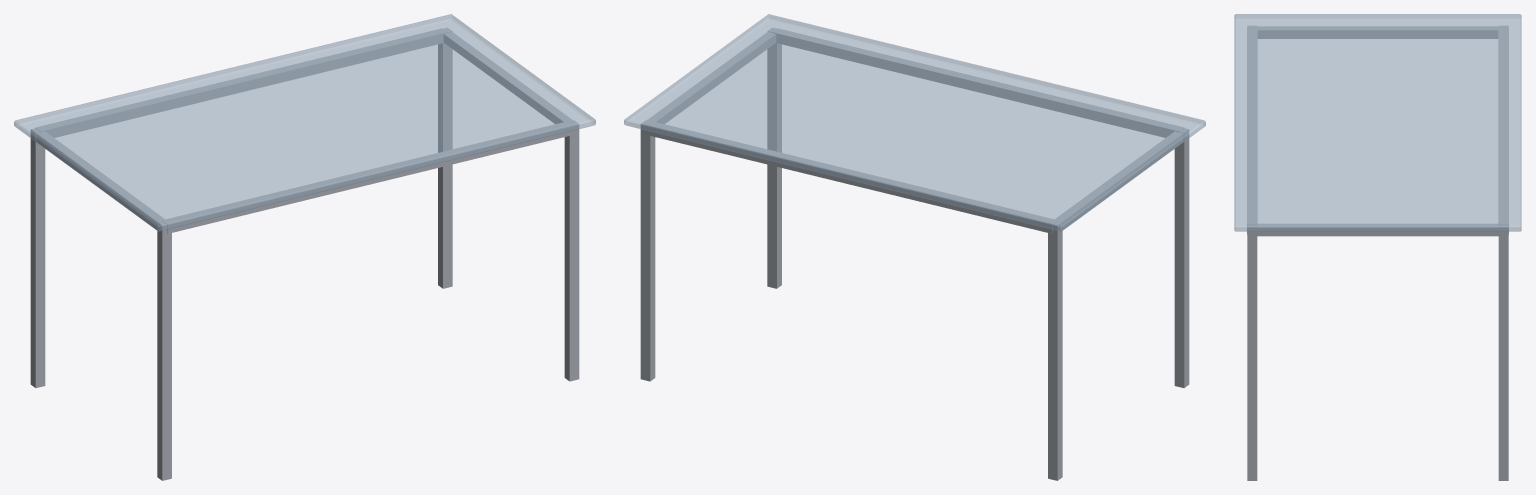
Rendered from display.glb.
3 views of the same model, side by side, from view 1: azimuth 30°, elevation 25°; view 2: azimuth 150°, elevation 25°; view 3: azimuth 270°, elevation 25° (orthographic).
Parts seen in each view (by area): view 1: display; view 2: display; view 3: display.
Part boxes in pixels (left/top/right/bottom): display: left=14, top=14, right=595, bottom=480; display: left=624, top=14, right=1205, bottom=480; display: left=1234, top=14, right=1521, bottom=480.
Size of the model in its own units: 1.4 by 0.8 by 0.8.
